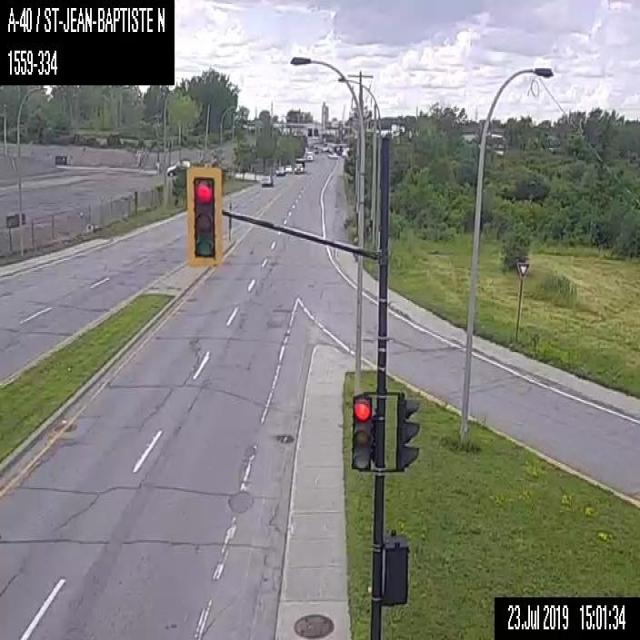vehicle: (166, 158, 190, 178), (294, 157, 304, 173), (260, 174, 272, 187), (305, 151, 313, 161), (284, 163, 292, 173), (275, 164, 283, 174), (327, 152, 337, 157)
